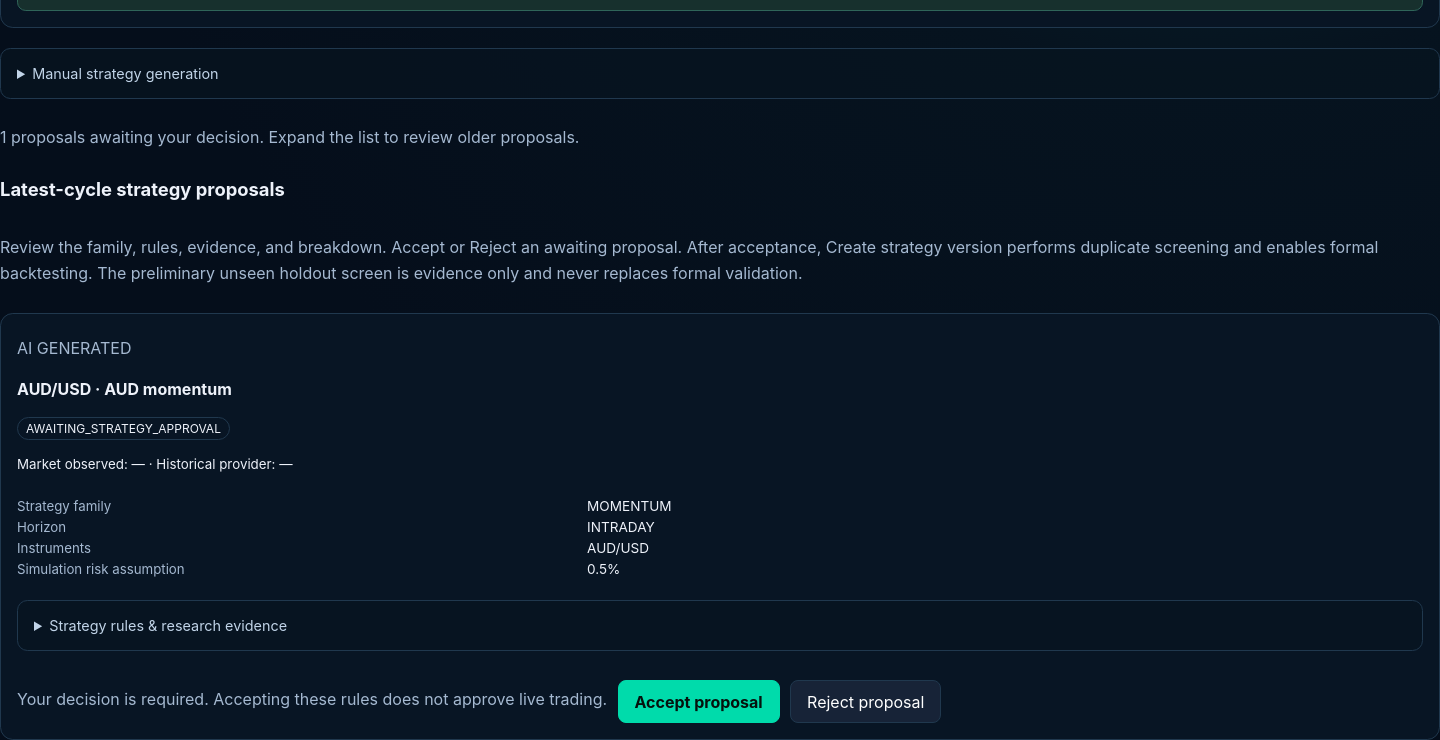
Test: rejecting a proposal does not create a version or start a backtest
(page scrolled)
What coordinates should you click on to do the following:
click the button "Reject proposal"
I would click on:
 (866, 702)
Its box is [790,680,941,723].
(page scrolled)
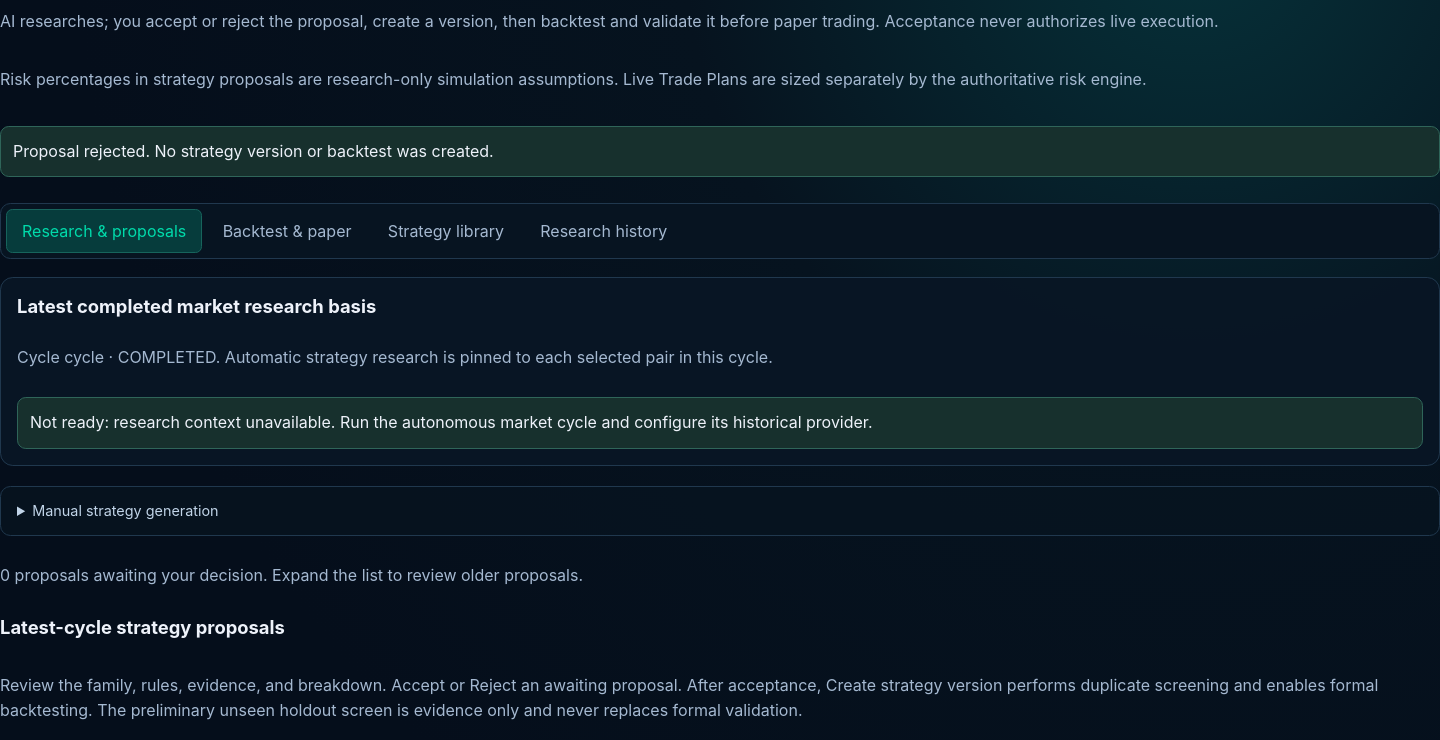
What coordinates should you click on to do the following:
click the tab "Backtest & paper"
I would click on:
 (287, 231)
Its box is [206,209,368,253].
(page scrolled)
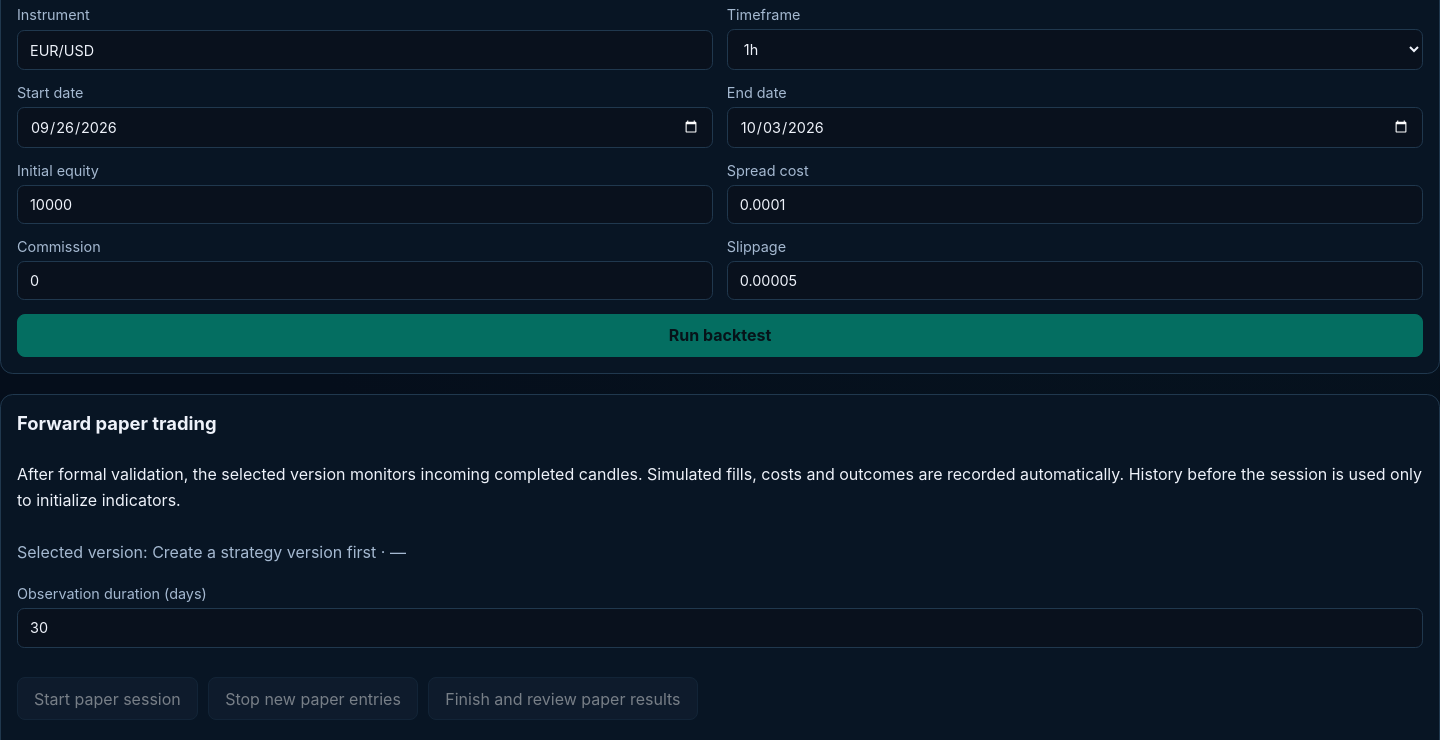
Now the button "Run backtest" is disabled, box [17,314,1423,357]
